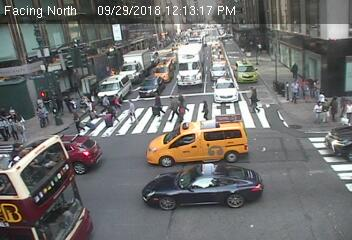car: (1, 144, 92, 240), (141, 164, 262, 209), (147, 116, 249, 166), (65, 135, 102, 175), (176, 44, 205, 87), (97, 73, 132, 102), (324, 126, 352, 162), (119, 48, 147, 84), (212, 78, 240, 104), (233, 59, 260, 83), (139, 75, 165, 97), (154, 62, 174, 82), (209, 62, 229, 81), (207, 47, 228, 63), (148, 51, 160, 66), (164, 51, 176, 65), (211, 40, 223, 49)
